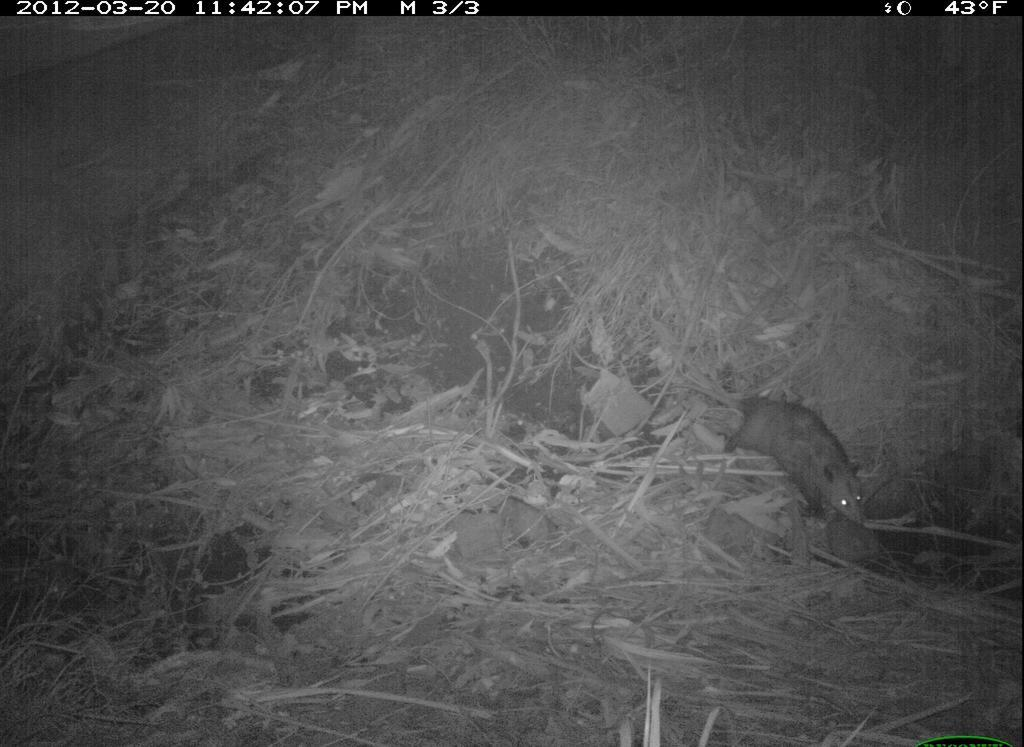opossum: (689, 372, 905, 547)
